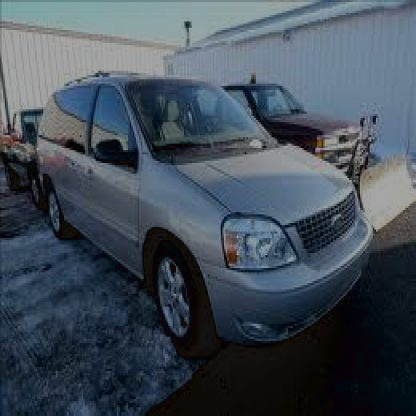Vehicle: (38, 77, 373, 365)
